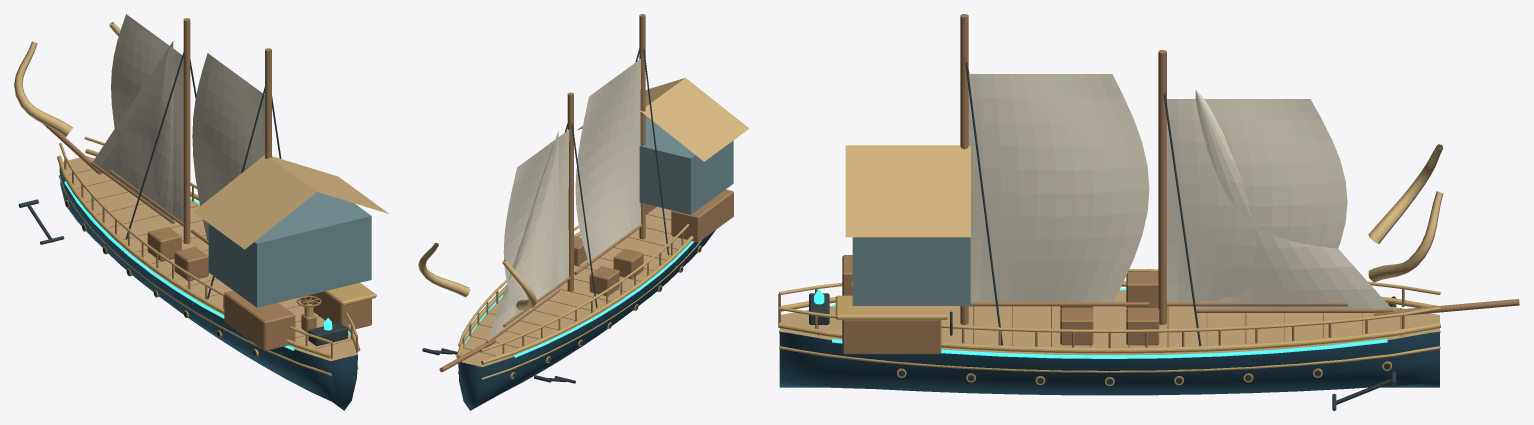
File: premium_golden_clipper.glb
3 views of the same model, side by side, from view 1: azimuth 30°, elevation 25°; view 2: azimuth 150°, elevation 25°; view 3: azimuth 270°, elevation 25° (orthographic). The views are drawn at different scales.
Visible parts, largest first — view 1: premium_golden_clipper; view 2: premium_golden_clipper; view 3: premium_golden_clipper.
Part boxes in pixels (left/top/right/bottom): premium_golden_clipper: left=14, top=14, right=388, bottom=410; premium_golden_clipper: left=418, top=14, right=749, bottom=410; premium_golden_clipper: left=778, top=14, right=1519, bottom=410.
Size of the model in its own units: 4.5 by 8.7 by 15.71.
